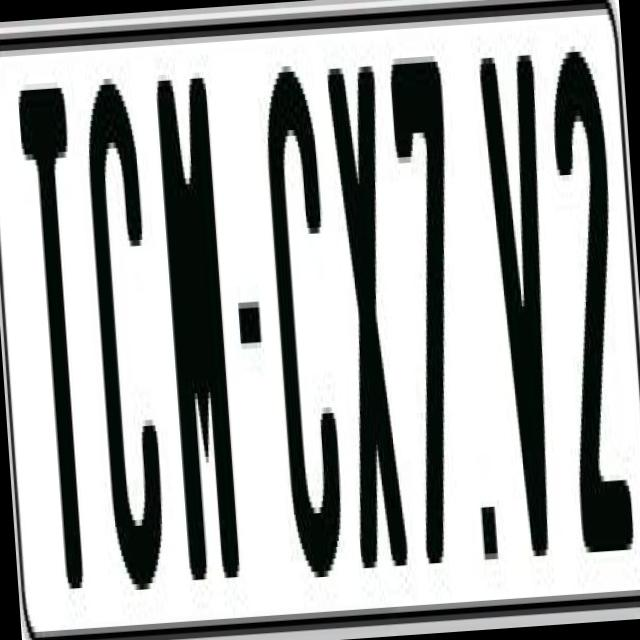2: (547, 37, 640, 564)
7: (386, 49, 472, 582)
C: (81, 82, 176, 602), (260, 63, 354, 584)
M: (153, 71, 243, 592)
T: (17, 86, 104, 606)
V: (476, 42, 571, 546)
X: (323, 53, 415, 580)
